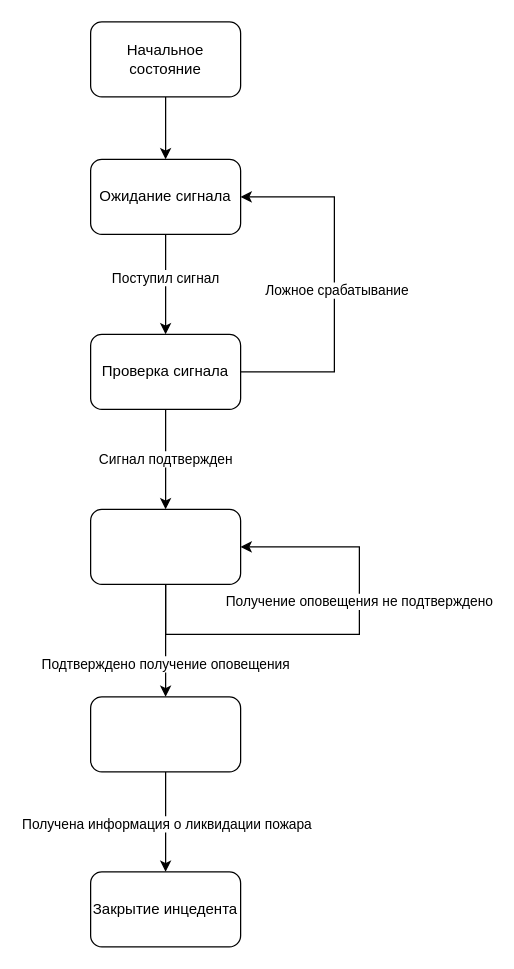
The diagram is 514 pixels wide and 969 high, and some of its shapes have lost their labels. Here are the shapes that lost their labels. From the top down, the centre of each, then its label:
At pixel 165 546: "Отправка оповещения".
At pixel 165 734: "Мониторинг ситуации".
